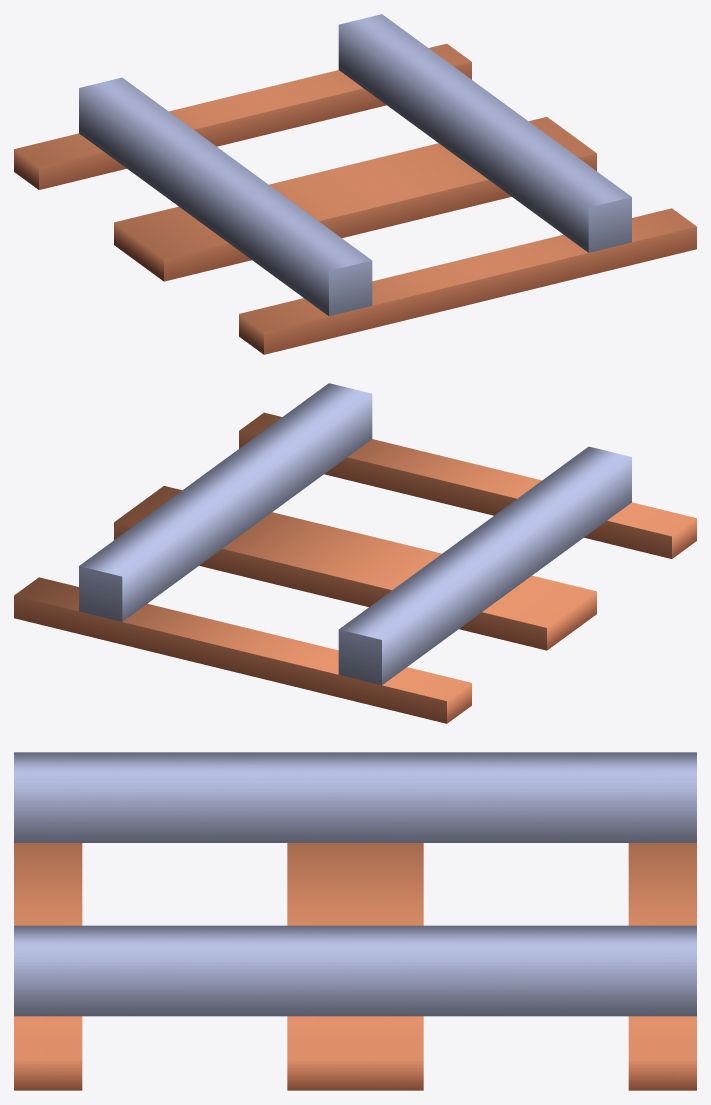
File: track.glb
The picture shows the model from 3 angles, top to bottom: view 1: azimuth 30°, elevation 25°; view 2: azimuth 150°, elevation 25°; view 3: azimuth 270°, elevation 25°; orthographic projection. The views are drawn at different scales.
Parts seen in each view (by area): view 1: track; view 2: track; view 3: track.
Part boxes in pixels (bbox=[...]): track: bbox=[14, 14, 696, 354]; track: bbox=[14, 383, 696, 723]; track: bbox=[14, 752, 696, 1090].
Size of the model in its own units: 1 by 0.15 by 1.
1 material, 1 textured.
